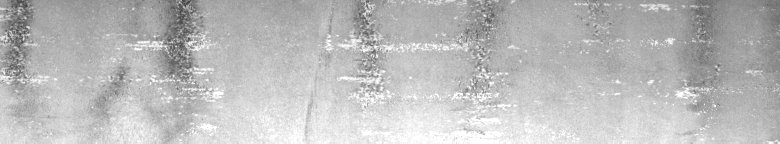hc: (120, 4, 211, 91)
